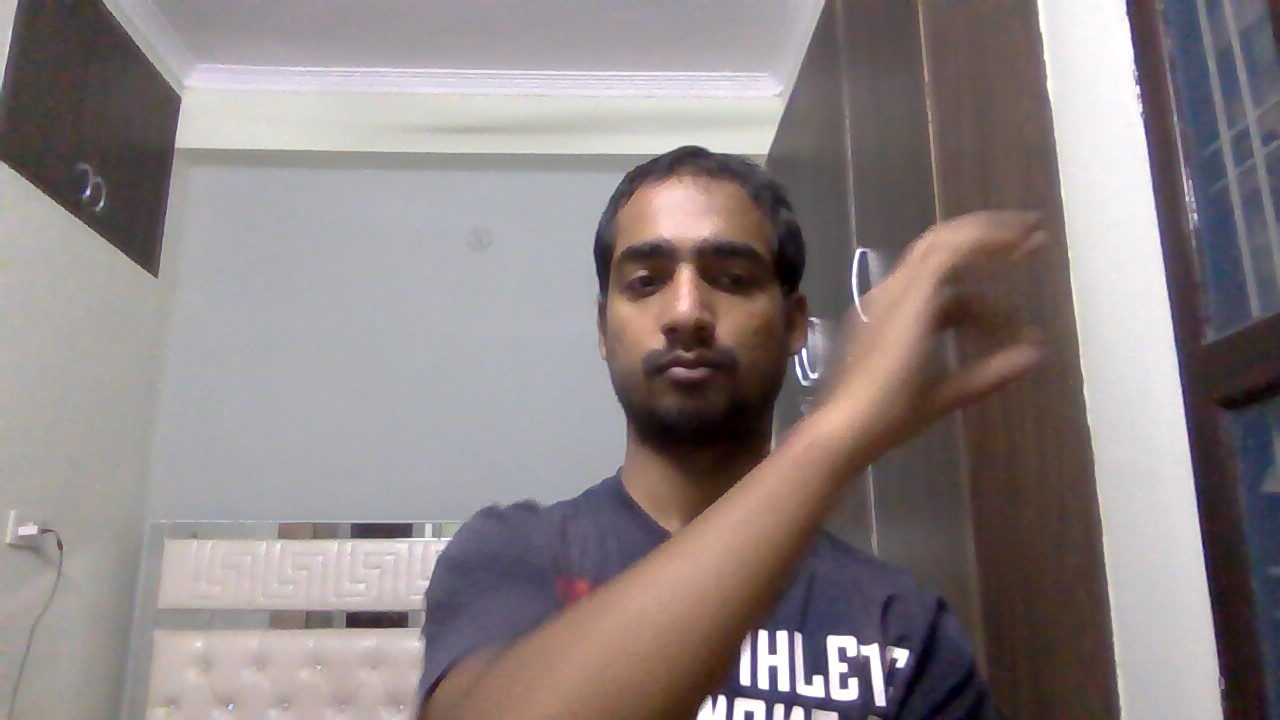Copy: (837, 201, 1073, 468)
